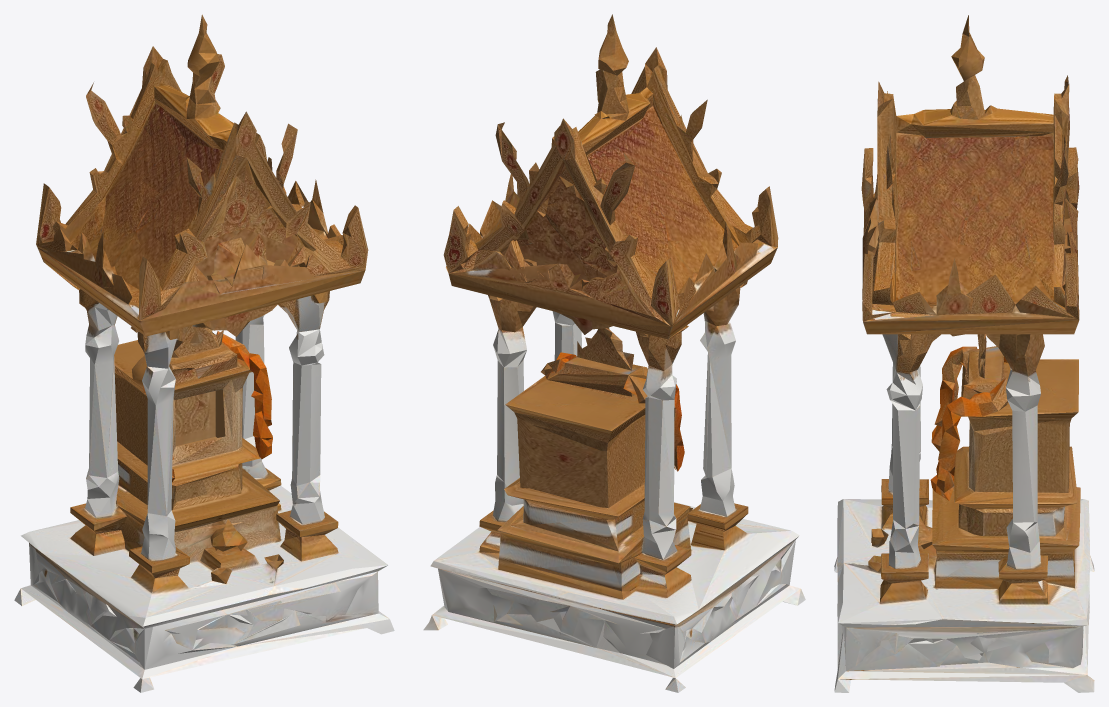
The model's file is spirit_house.glb.
3 renders of one model, left to right at view 1: azimuth 30°, elevation 25°; view 2: azimuth 150°, elevation 25°; view 3: azimuth 270°, elevation 25°, orthographic. The views are drawn at different scales.
Visible parts, largest first — view 1: spirit_house; view 2: spirit_house; view 3: spirit_house.
Boxes of the visible parts, x1,y1,x2,y2 form: spirit_house: [14, 14, 394, 692]; spirit_house: [423, 14, 805, 692]; spirit_house: [834, 15, 1094, 692].
Size of the model in its own units: 0.9745 by 2.2 by 0.8424.
1 material, 1 textured.
